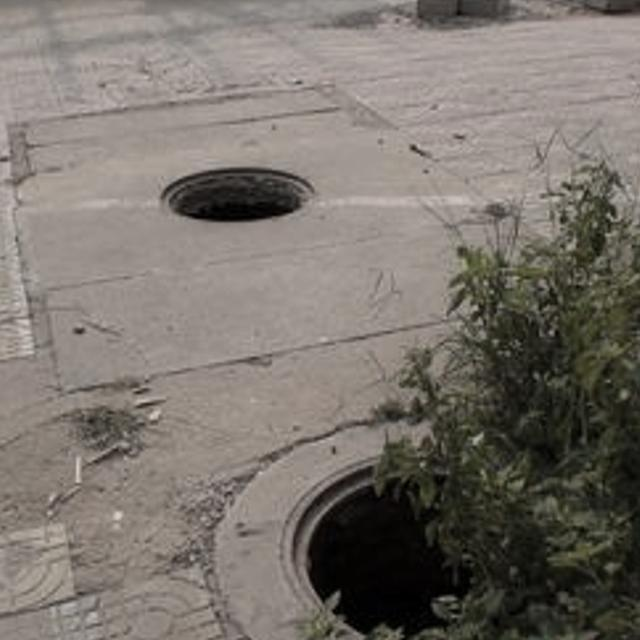lose: (227, 414, 599, 640), (147, 147, 332, 242)
